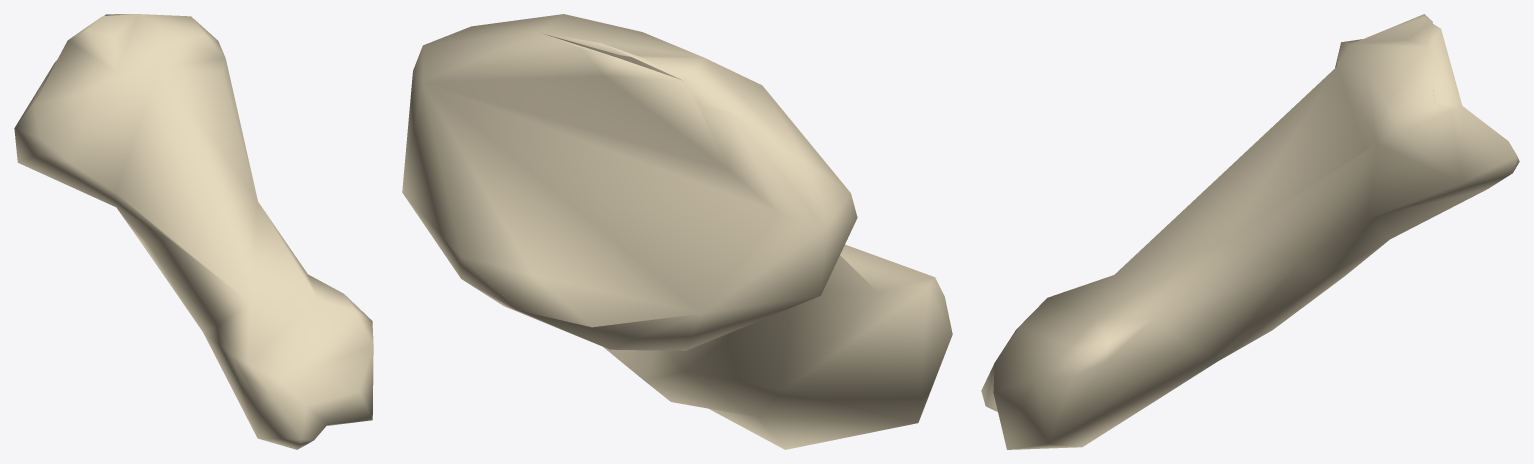
File: esqueleto-distal-phalanx-of-second-finger-of-hand-l.glb
The picture shows the model from 3 angles, left to right: view 1: azimuth 30°, elevation 25°; view 2: azimuth 150°, elevation 25°; view 3: azimuth 270°, elevation 25°; orthographic projection. The views are drawn at different scales.
Parts seen in each view (by area): view 1: Distal phalanx of second finger of hand.l; view 2: Distal phalanx of second finger of hand.l; view 3: Distal phalanx of second finger of hand.l.
Part boxes in pixels (x1,y1,x2,y2): Distal phalanx of second finger of hand.l: [14, 14, 373, 449]; Distal phalanx of second finger of hand.l: [402, 14, 952, 449]; Distal phalanx of second finger of hand.l: [981, 14, 1519, 449].
Bounding box in the file's own units: 0.0104 × 0.0143 × 0.0176.
